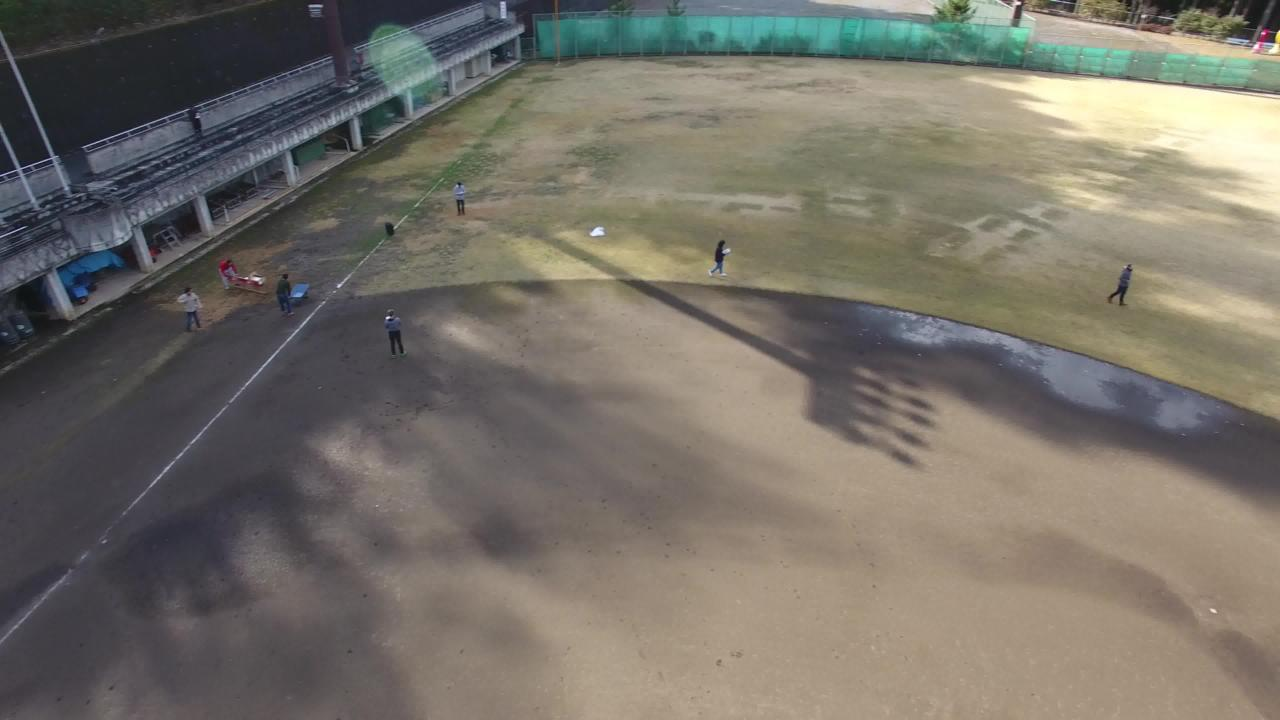person: (369, 304, 414, 373), (1099, 257, 1144, 326), (696, 229, 741, 298), (433, 163, 478, 232), (263, 267, 308, 336), (204, 240, 249, 309), (168, 279, 213, 348), (176, 86, 221, 155)
